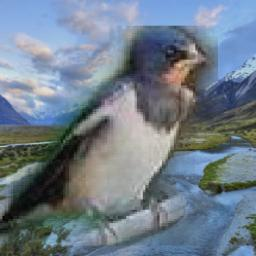Swallow: (0, 26, 217, 246)
